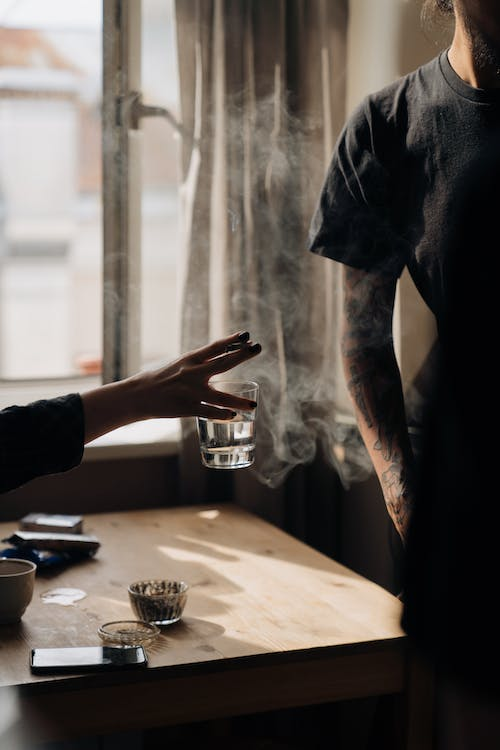cigarette: (222, 339, 254, 355)
